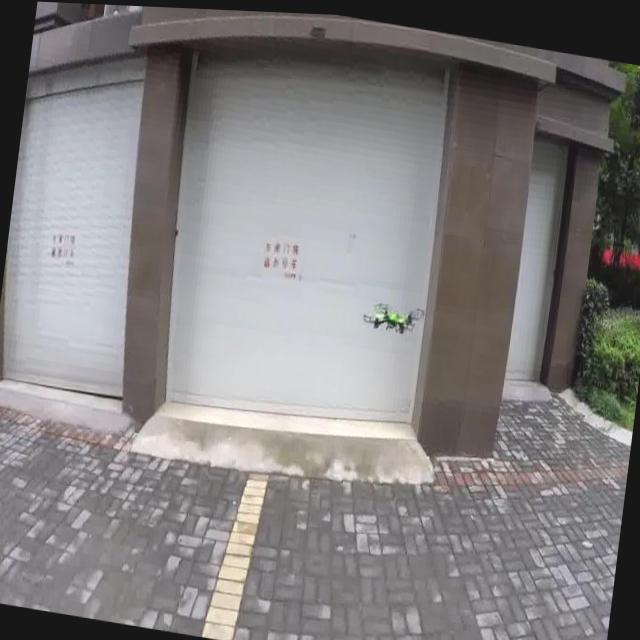drone: (354, 286, 428, 345)
